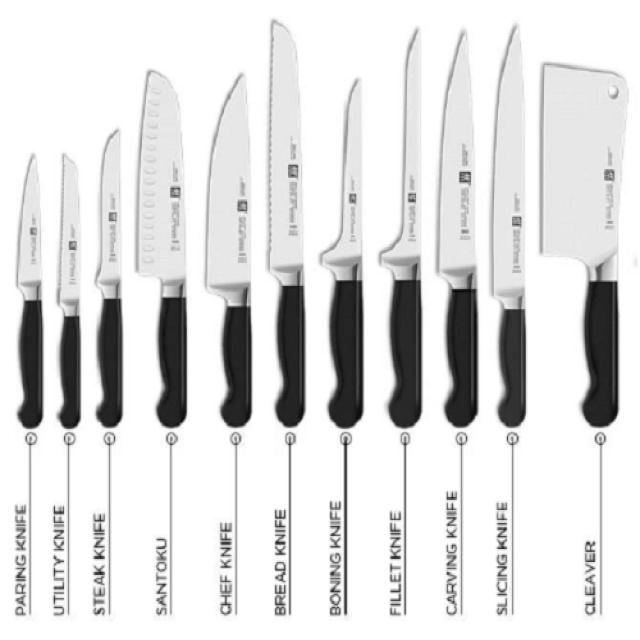Knife: (532, 50, 639, 443), (127, 64, 200, 440), (262, 14, 308, 436), (437, 20, 482, 429), (212, 62, 255, 469), (380, 24, 423, 429), (491, 18, 532, 436), (322, 69, 366, 442), (52, 144, 88, 436), (93, 124, 125, 422), (16, 150, 44, 439)
